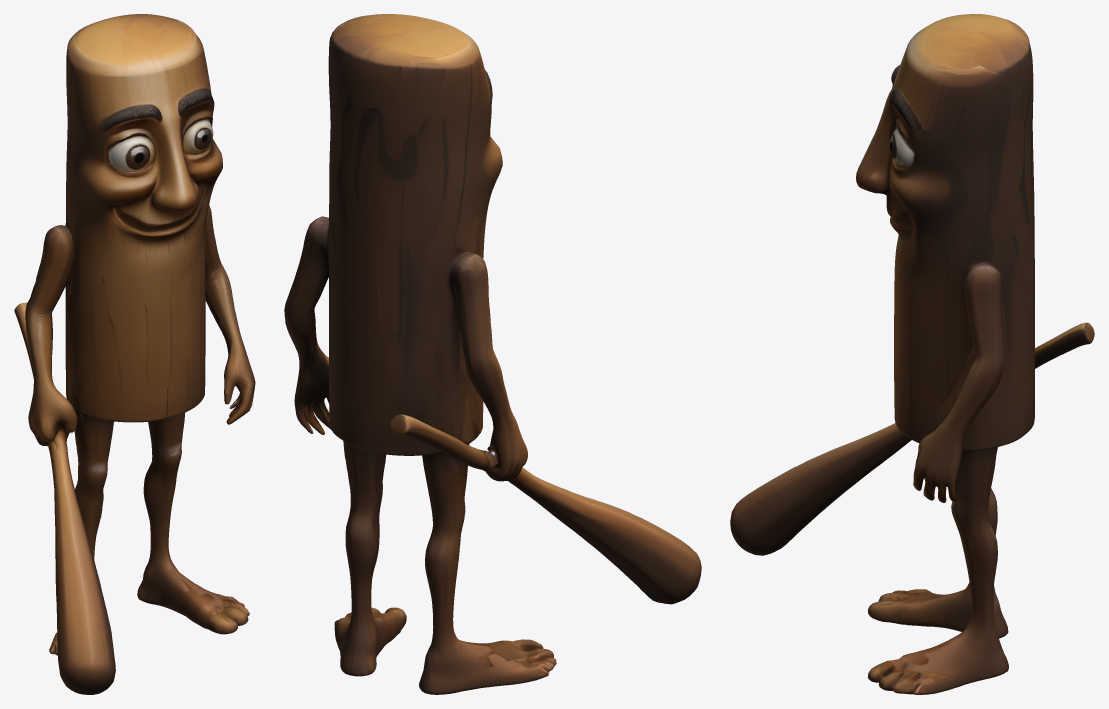
Rendered from VR_Tung.glb.
3 renders of one model, left to right at view 1: azimuth 30°, elevation 25°; view 2: azimuth 150°, elevation 25°; view 3: azimuth 270°, elevation 25°, orthographic. The views are drawn at different scales.
Visible parts, largest first — view 1: model.001; view 2: model.001; view 3: model.001.
Boxes of the visible parts, x1=… form: model.001: x1=14, y1=14, x2=255, y2=694; model.001: x1=284, y1=14, x2=701, y2=694; model.001: x1=730, y1=14, x2=1094, y2=694.
Bounding box in the file's own units: 7.04 × 14.15 × 7.54.
Materials: 1 (1 with a texture image).
